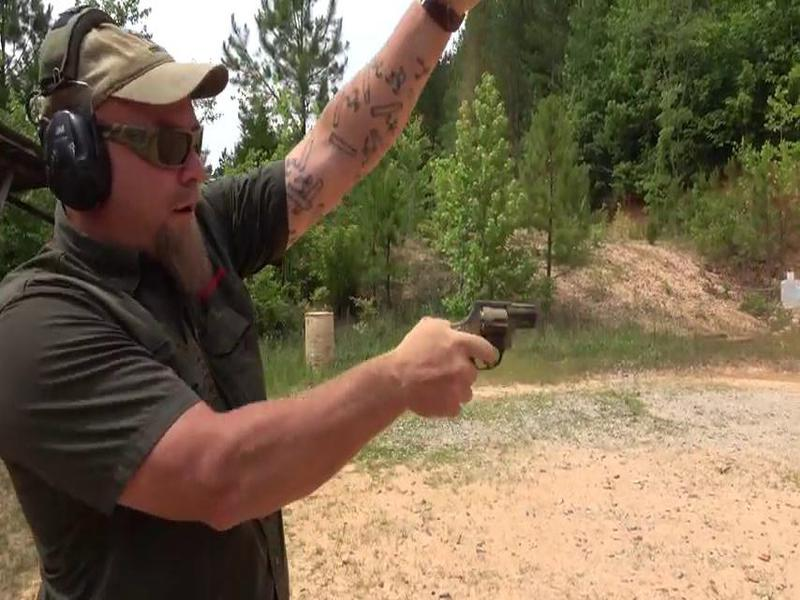Revolver: (437, 255, 553, 391)
